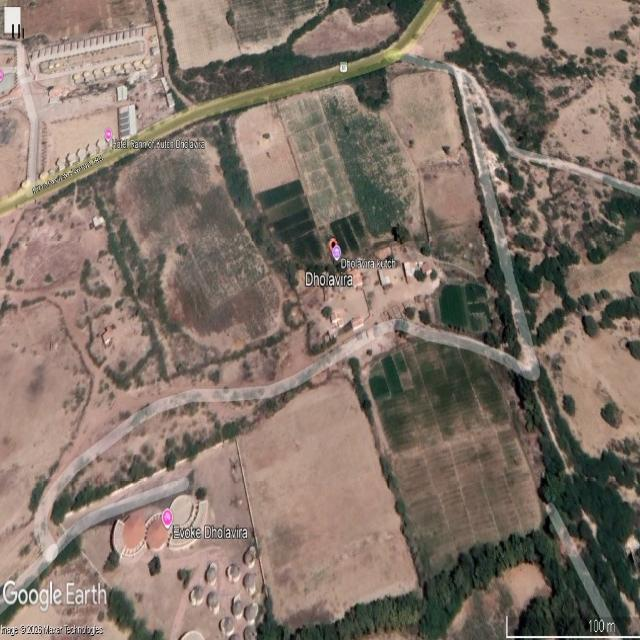objects-ruins-artifacts: (223, 353, 549, 563), (36, 67, 302, 269)
